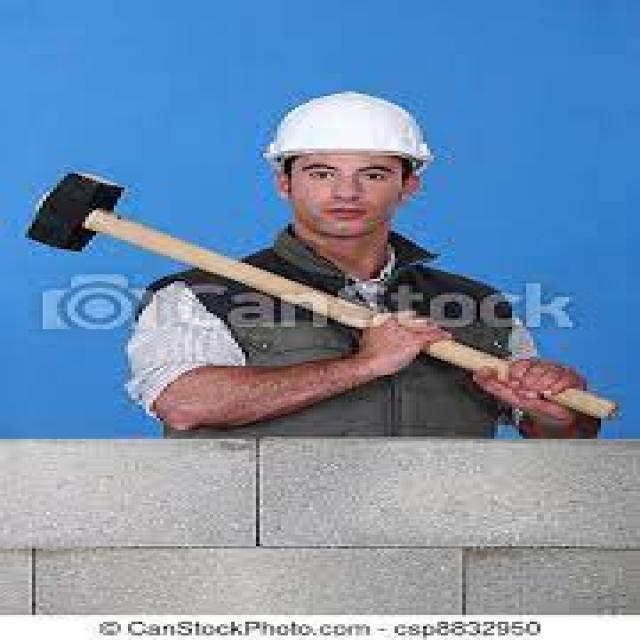hammer: (18, 168, 626, 426)
